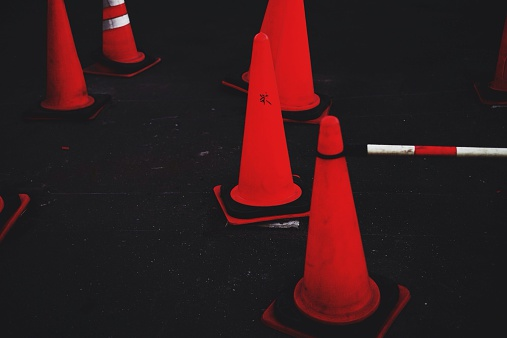trafficcone: (261, 115, 411, 336), (212, 32, 314, 225), (19, 1, 111, 120), (275, 1, 334, 125), (81, 1, 163, 78), (220, 1, 275, 94), (1, 193, 29, 240)
